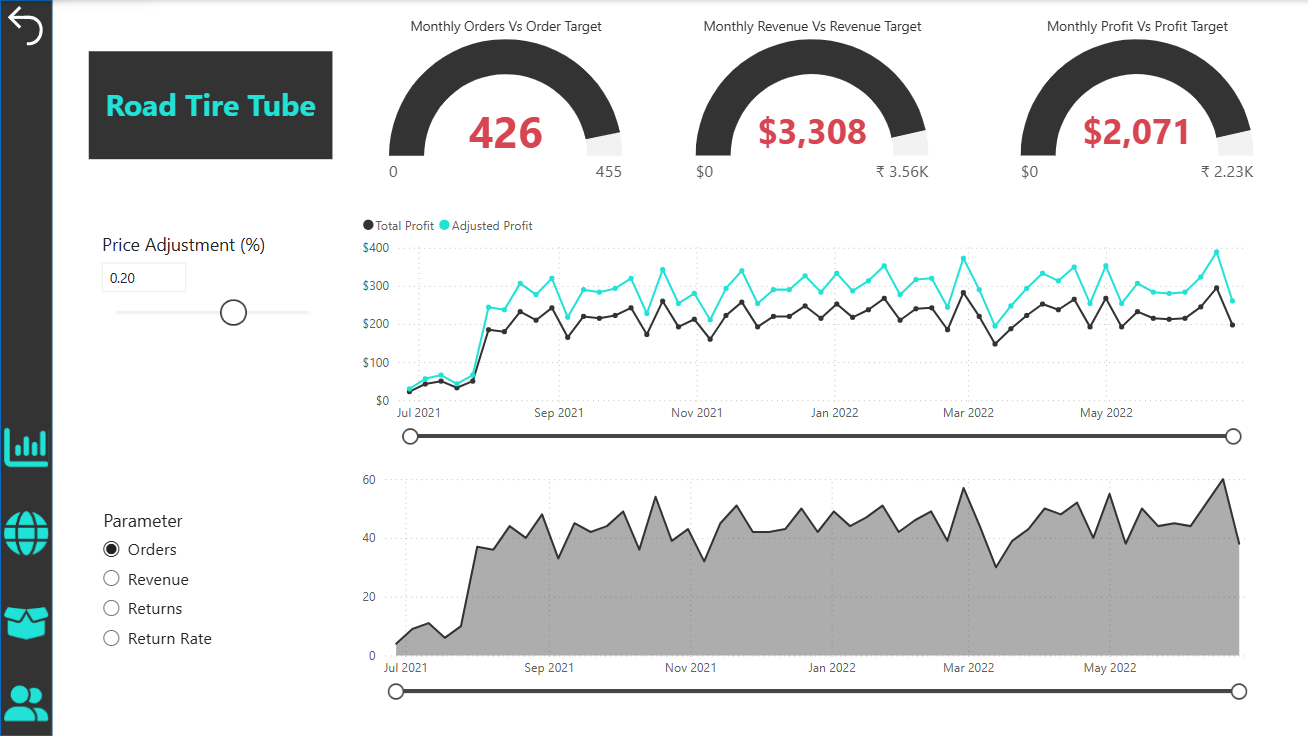

This screenshot's page, from the dashboard's own definition file:
{"tool":"powerbi","page":{"name":"Product Detail","canvas":[1280,720],"ordinal":2},"visuals":[{"type":"group","id":"g1","title":"Group 1","box":[0,0,51.4,720],"z":0,"group":"g3"},{"type":"gauge","title":"Monthly Orders Vs Order Target ","fields":{"MaxValue":["Measure Table.Order Target"],"Y":["Measure Table.Total Orders"]},"box":[357,15.9,275.7,173.3],"z":0},{"type":"actionButton","box":[0,409.2,51.4,56.1],"z":0,"group":"g2"},{"type":"group","id":"g2","title":"Group 2","box":[0,409.2,51.4,307.1],"z":5,"group":"g3"},{"type":"gauge","title":"Monthly Revenue Vs Revenue Target ","fields":{"Y":["Measure Table.REVENUE"],"MaxValue":["Measure Table.Revenue Target"]},"box":[656.8,15.6,276,173.1],"z":1000},{"type":"actionButton","box":[0,491.8,51.4,57.8],"z":1000,"group":"g2"},{"type":"gauge","title":"Monthly Profit Vs Profit Target ","fields":{"Y":["Measure Table.Total Profit"],"MaxValue":["Measure Table.Profit Target"]},"box":[974.2,15.6,276,173.1],"z":2000},{"type":"actionButton","box":[0,580.9,51.4,57.8],"z":2000,"group":"g2"},{"type":"lineChart","title":"Profit Trending","fields":{"Y":["Measure Table.Total Profit","Measure Table.Adjusted Profit"],"Category":["Calendar Lookup.Date Hierarchy.Start of Year","Calendar Lookup.Date Hierarchy.Start of Month","Calendar Lookup.Date Hierarchy.Start of Quarter","Calendar Lookup.Date Hierarchy.Start of Week"]},"box":[350,200,887.1,237.1],"z":3000},{"type":"actionButton","box":[0,658.5,51.4,57.8],"z":3000,"group":"g2"},{"type":"shape","box":[0,0,51.4,720.2],"z":4000,"group":"g1"},{"type":"areaChart","title":"Returns Trending ","fields":{"Y":["Measure Table.Total Orders"],"Category":["Calendar Lookup.Date Hierarchy.Start of Year","Calendar Lookup.Date Hierarchy.Start of Month","Calendar Lookup.Date Hierarchy.Start of Quarter","Calendar Lookup.Date Hierarchy.Start of Week"]},"box":[350,455,893.8,232.5],"z":4000},{"type":"card","fields":{"Values":["Min(Product Lookup.ProductName)"]},"box":[87.1,50,238.6,105.7],"z":5000},{"type":"group","id":"g3","title":"Group 3","box":[0,0,51.4,720],"z":6000},{"type":"actionButton","title":"Dash ","box":[0,0,115.7,50],"z":7000},{"type":"slicer","fields":{"Values":["Price Adjustment (%) .Price Adjustment (%) "]},"box":[87.1,222.9,238.6,154.3],"z":8000},{"type":"slicer","fields":{"Values":["Parameter.Parameter"]},"box":[87.5,492.5,238.8,158.8],"z":9000}]}

Visuals, with their boxes on the page's 1280x720 design canvas (x1, y1, x2, y2). These are canvas units, not pixel positions in the 1308x736 screenshot, which may show the page scaled, cropped or inside an application window:
"Group 1" group: {"left": 0, "top": 0, "right": 51, "bottom": 720}
"Monthly Orders Vs Order Target " gauge: {"left": 357, "top": 16, "right": 633, "bottom": 189}
actionButton: {"left": 0, "top": 409, "right": 51, "bottom": 465}
"Group 2" group: {"left": 0, "top": 409, "right": 51, "bottom": 716}
"Monthly Revenue Vs Revenue Target " gauge: {"left": 657, "top": 16, "right": 933, "bottom": 189}
actionButton: {"left": 0, "top": 492, "right": 51, "bottom": 550}
"Monthly Profit Vs Profit Target " gauge: {"left": 974, "top": 16, "right": 1250, "bottom": 189}
actionButton: {"left": 0, "top": 581, "right": 51, "bottom": 639}
"Profit Trending" lineChart: {"left": 350, "top": 200, "right": 1237, "bottom": 437}
actionButton: {"left": 0, "top": 658, "right": 51, "bottom": 716}
shape: {"left": 0, "top": 0, "right": 51, "bottom": 720}
"Returns Trending " areaChart: {"left": 350, "top": 455, "right": 1244, "bottom": 688}
card - Min(Product Lookup.ProductName): {"left": 87, "top": 50, "right": 326, "bottom": 156}
"Group 3" group: {"left": 0, "top": 0, "right": 51, "bottom": 720}
"Dash " actionButton: {"left": 0, "top": 0, "right": 116, "bottom": 50}
slicer - Price Adjustment (%) .Price Adjustment (%) : {"left": 87, "top": 223, "right": 326, "bottom": 377}
slicer - Parameter.Parameter: {"left": 88, "top": 492, "right": 326, "bottom": 651}
